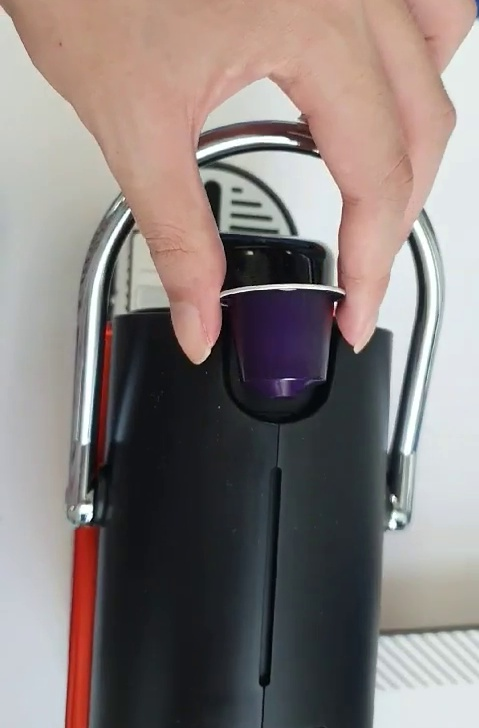capsule_2: (219, 280, 352, 402)
